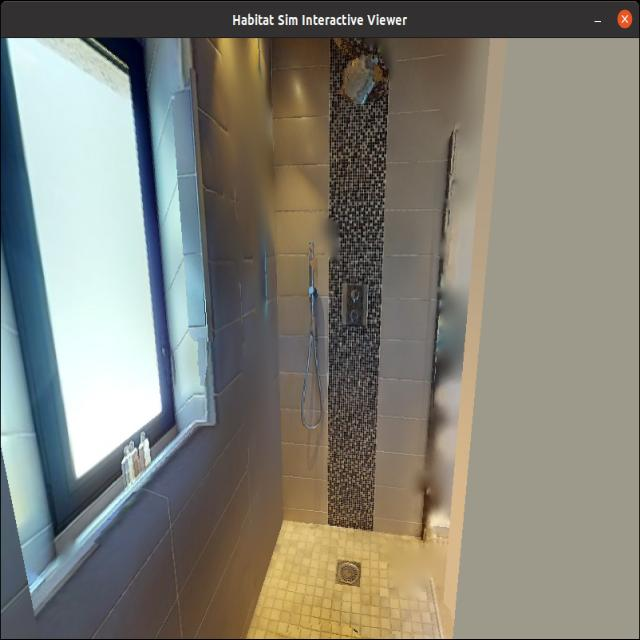shower: (238, 65, 450, 640)
